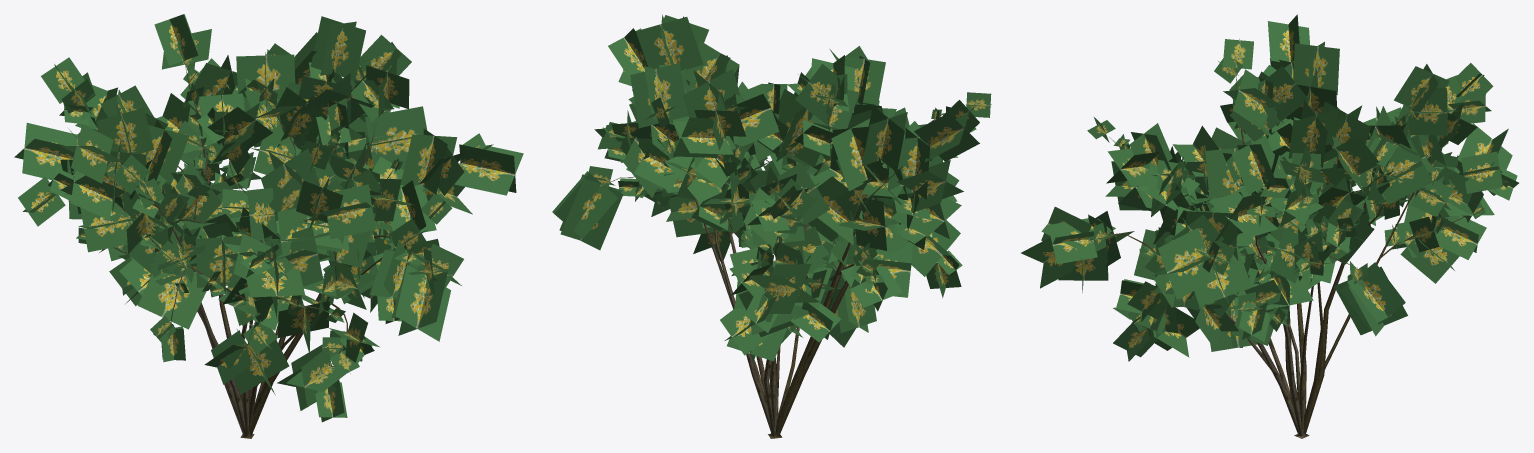
3 views of the same model, side by side, from view 1: azimuth 30°, elevation 25°; view 2: azimuth 150°, elevation 25°; view 3: azimuth 270°, elevation 25° (orthographic). The views are drawn at different scales.
Visible parts, largest first — view 1: branches, branches.001; view 2: branches, branches.001; view 3: branches, branches.001.
Part boxes in pixels (x1,y1,x2,y2): branches: (14, 14, 523, 422); branches.001: (96, 63, 459, 438); branches: (552, 14, 991, 361); branches.001: (610, 114, 942, 438); branches: (1021, 14, 1518, 361); branches.001: (1105, 70, 1467, 438).
Bounding box in the file's own units: 1.52 × 1.4 × 1.68.
2 materials, 2 textured.
